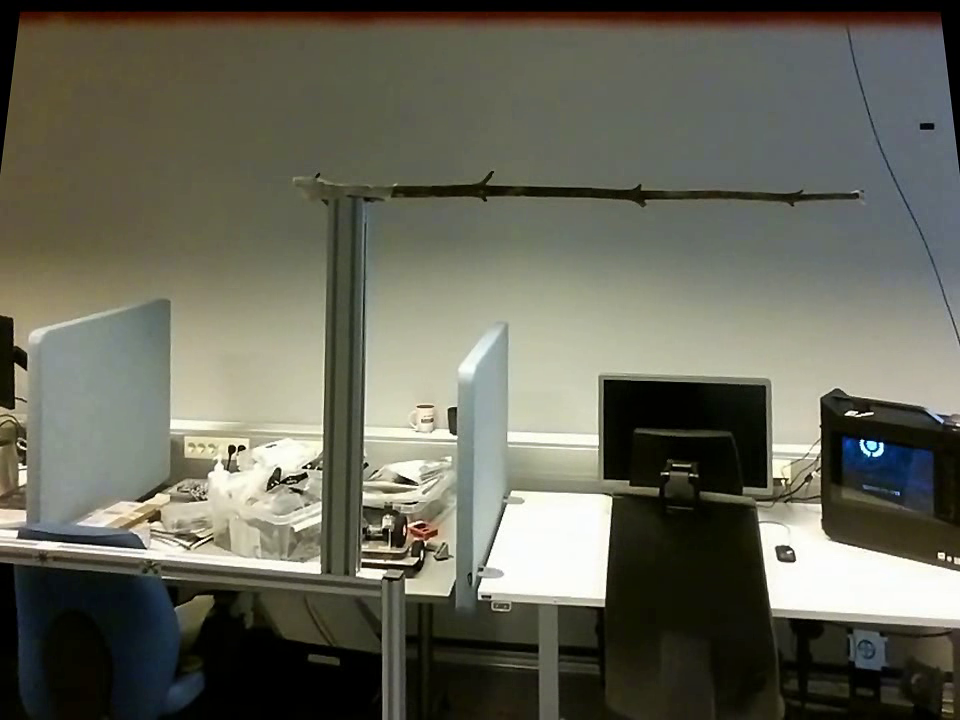aluminum_frame: (4, 533, 376, 601), (313, 200, 364, 578), (371, 568, 410, 717)
branch: (400, 160, 842, 216)
